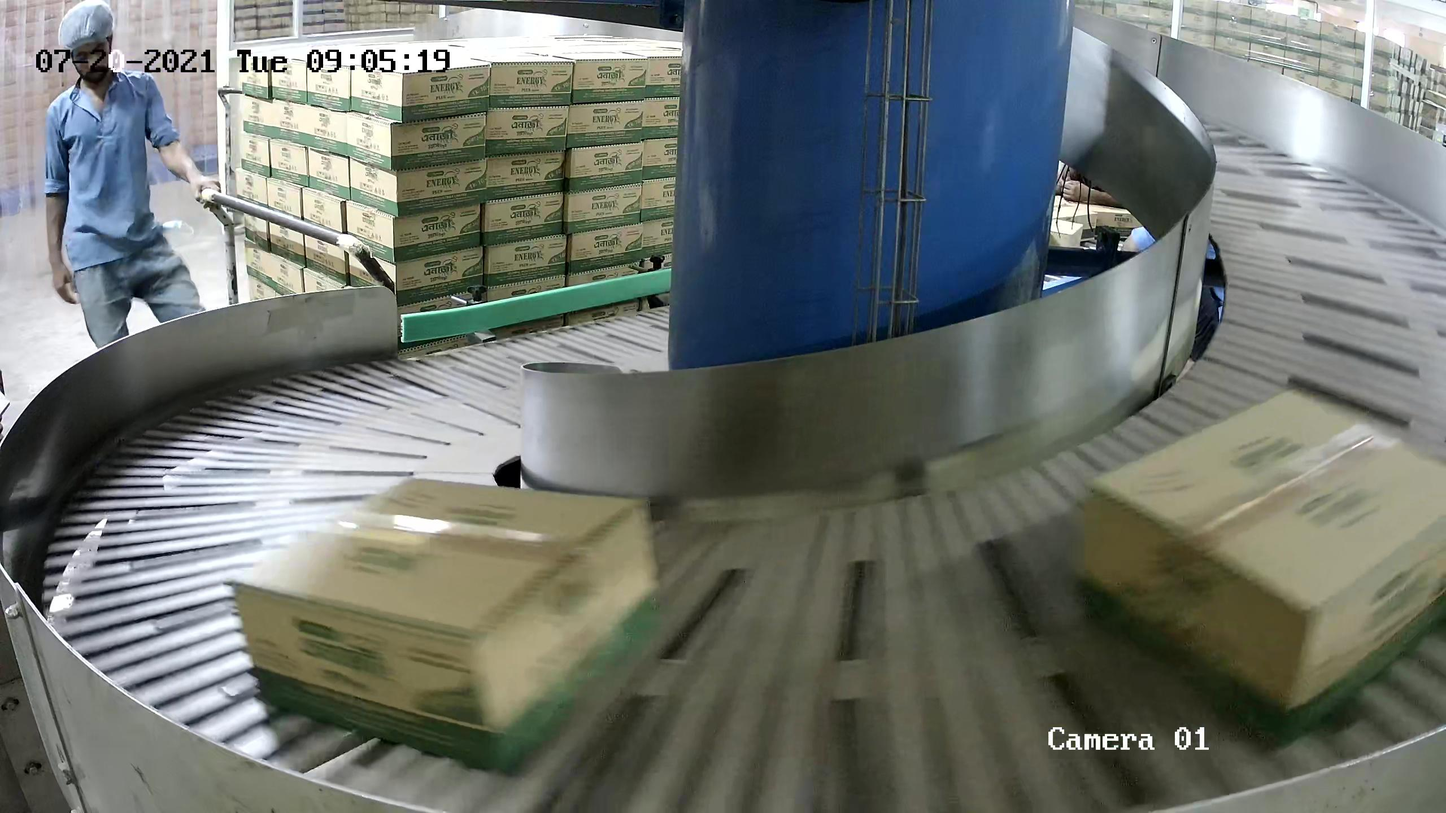Box: (219, 473, 666, 778), (1078, 383, 1446, 753)
